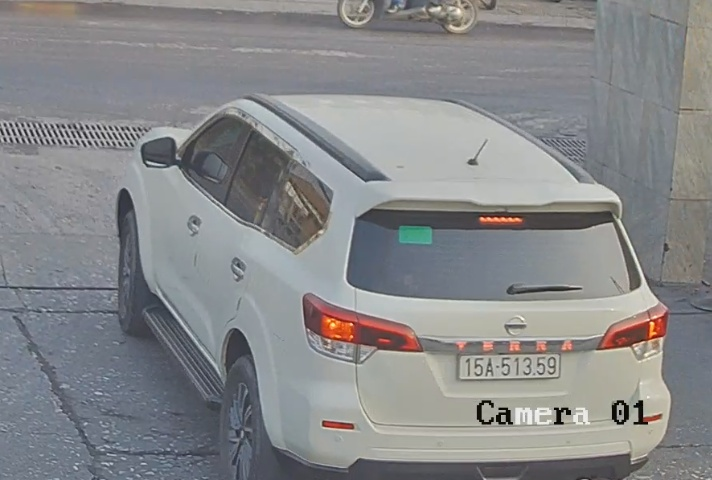vehicle plate: (457, 348, 561, 381)
